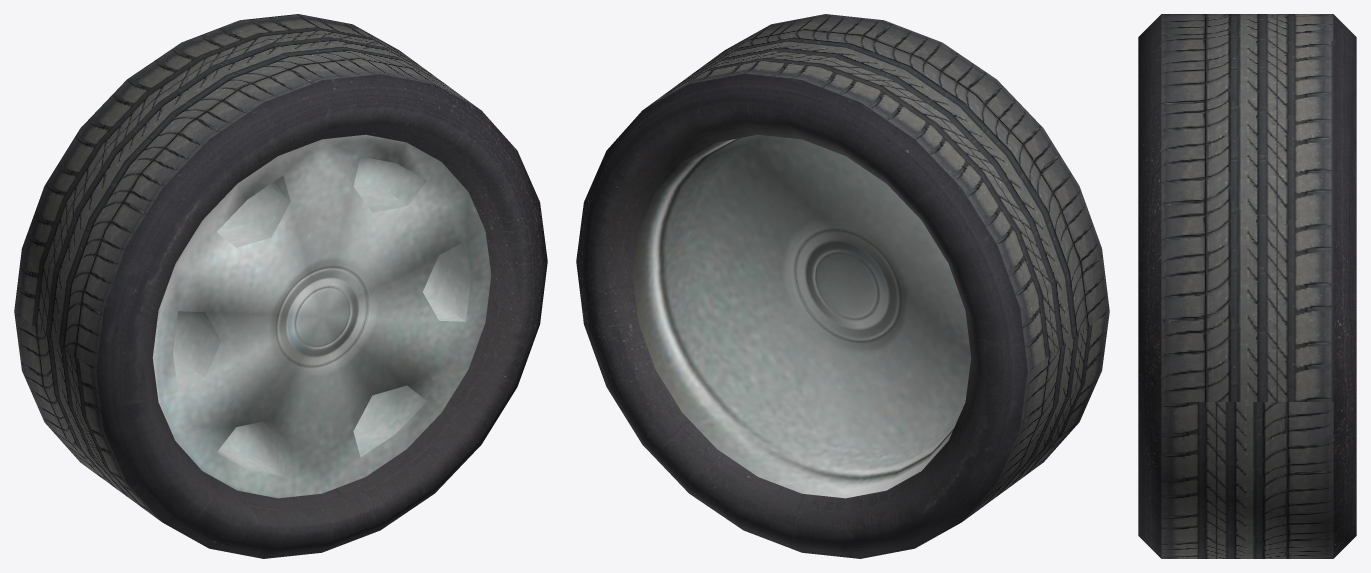
Rendered from wheel front left.obj.
3 renders of one model, left to right at view 1: azimuth 30°, elevation 25°; view 2: azimuth 150°, elevation 25°; view 3: azimuth 270°, elevation 25°, orthographic. The views are drawn at different scales.
Visible parts, largest first — view 1: Default; view 2: Default; view 3: Default.
Boxes of the visible parts, x1,y1,x2,y2 form: Default: (14, 14, 547, 558); Default: (576, 14, 1109, 558); Default: (1138, 14, 1356, 558).
Size of the model in its own units: 0.8406 by 0.8406 by 0.3354.
1 material, 1 textured.
